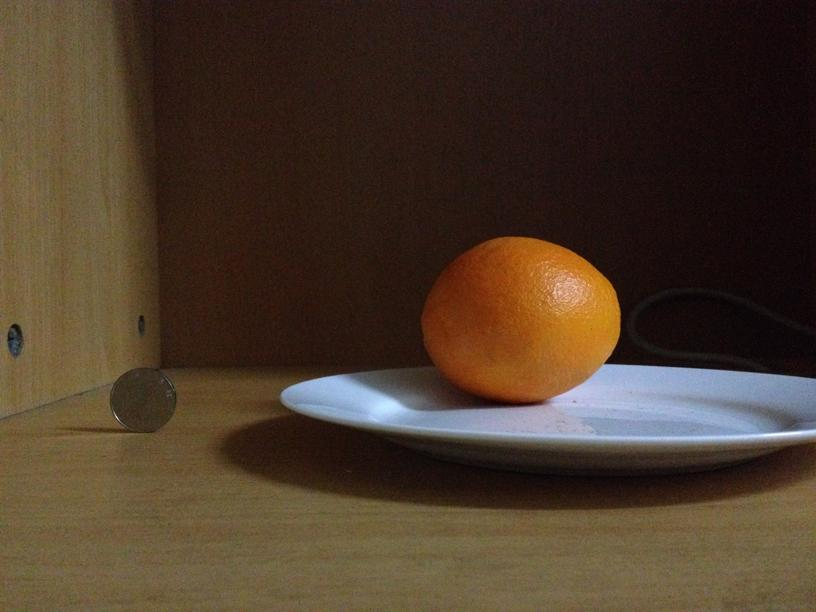coin: (107, 365, 177, 432)
orange: (420, 232, 622, 398)
